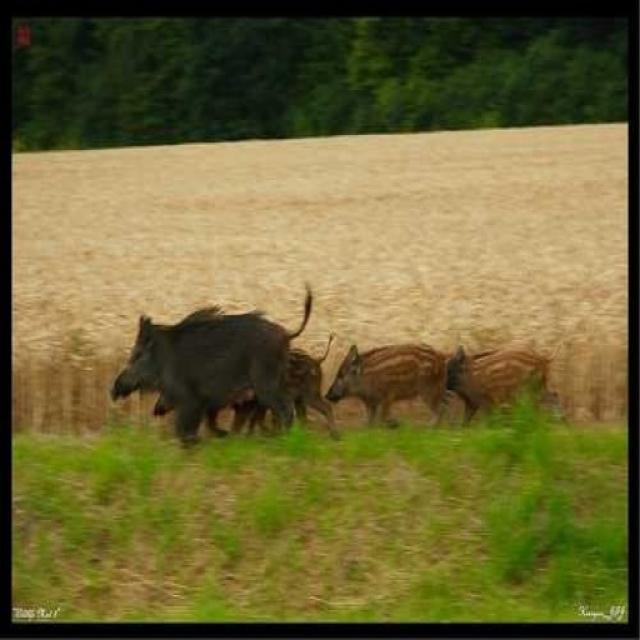pig: (79, 284, 329, 478), (318, 314, 446, 436), (447, 311, 536, 425)
